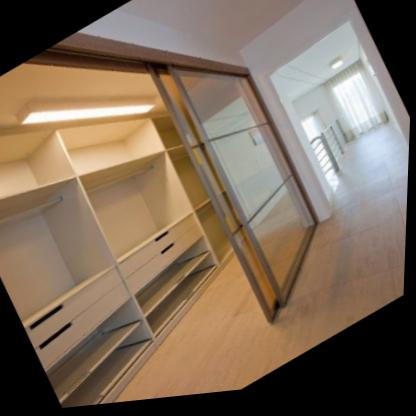Transparent Closet: (0, 33, 326, 410)
